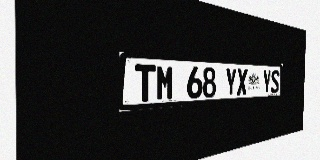6: (187, 66, 202, 99)
8: (202, 67, 216, 98)
M: (156, 65, 174, 101)
S: (271, 70, 279, 93)
T: (135, 64, 155, 102)
X: (237, 68, 247, 95)
Y: (225, 68, 237, 96), (262, 69, 271, 94)
